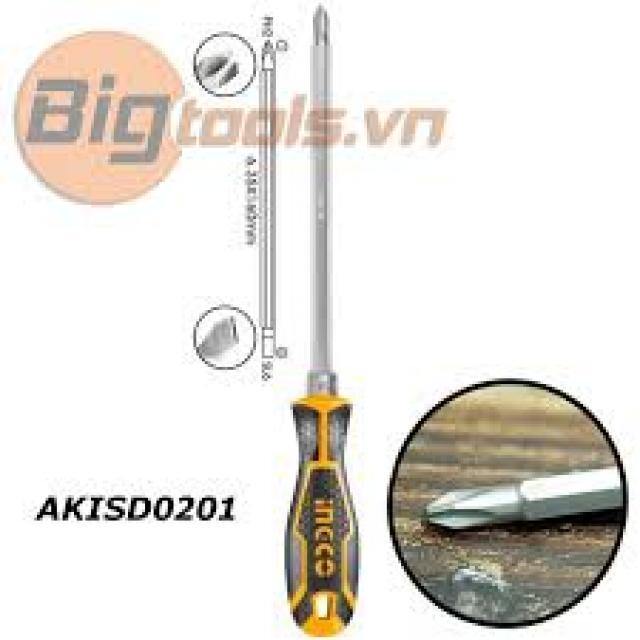screwdriver: (283, 8, 363, 638)
